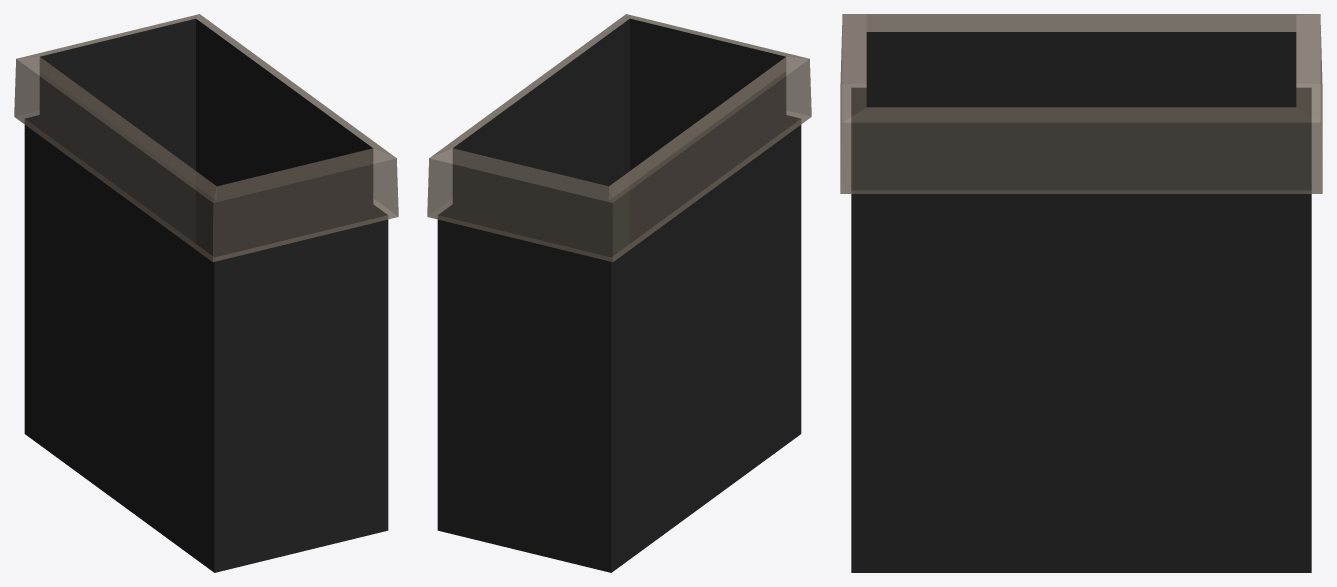
File: produceBin_01.FBX
3 renders of one model, left to right at view 1: azimuth 30°, elevation 25°; view 2: azimuth 150°, elevation 25°; view 3: azimuth 270°, elevation 25°, orthographic. The views are drawn at different scales.
Parts seen in each view (by area): view 1: ProduceBin; view 2: ProduceBin; view 3: ProduceBin.
Part boxes in pixels (x1,y1,x2,y2): ProduceBin: (14, 14, 398, 572); ProduceBin: (427, 14, 811, 572); ProduceBin: (840, 14, 1322, 572).
Bounding box in the file's own units: 13.59 × 26.54 × 25.17.
